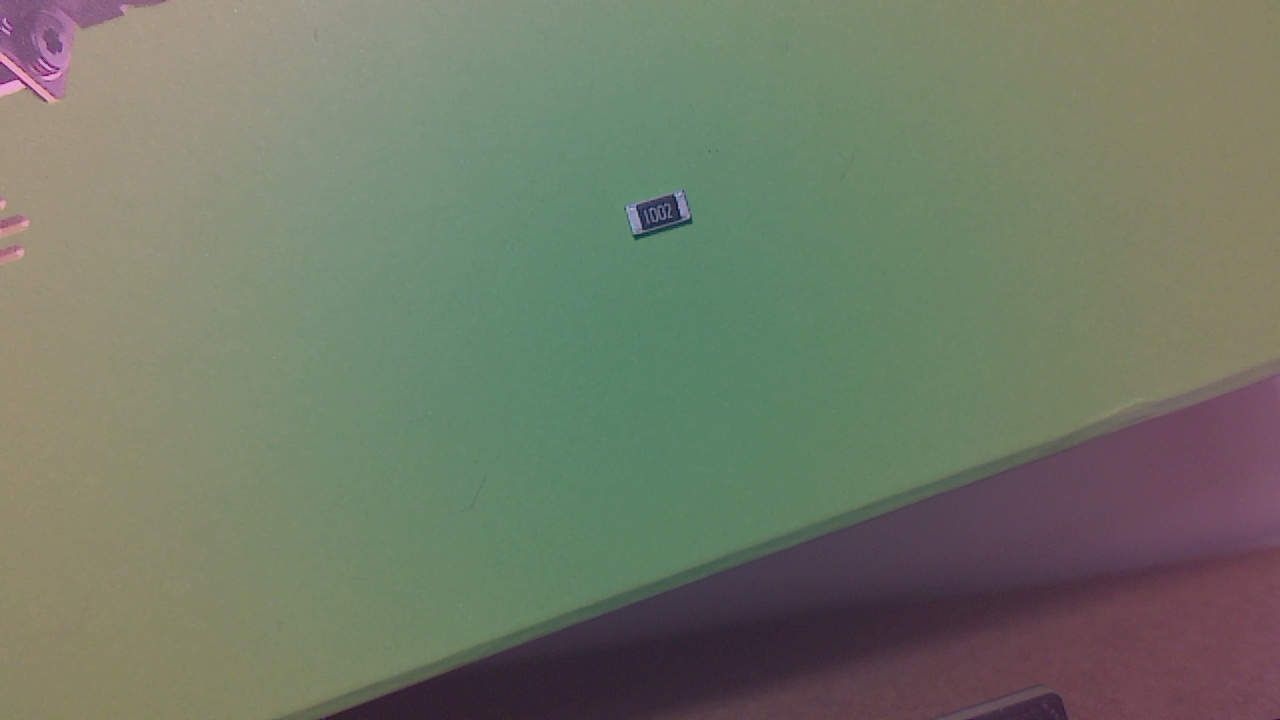Resistor: (629, 192, 699, 247)
